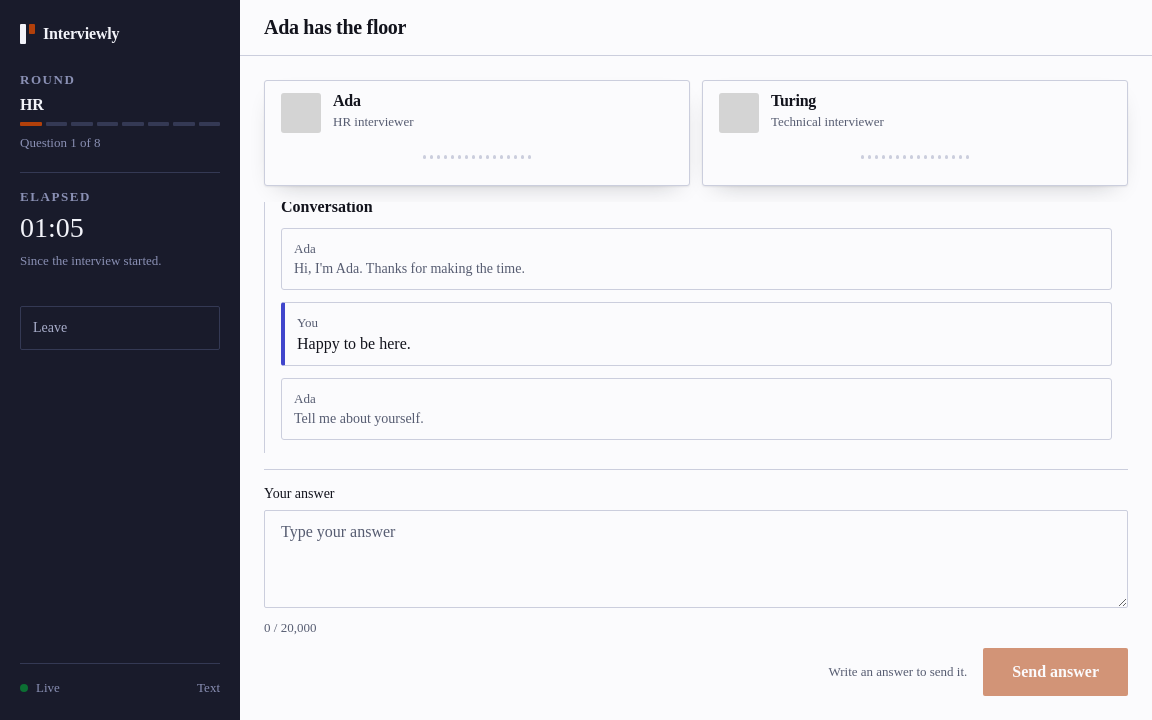
Test: leaving the room (issue 104) › asks before ending, and sends nothing until it is confirmed
(page scrolled)
Click the button "Leave".
click(120, 328)  # box [20,306,220,350]
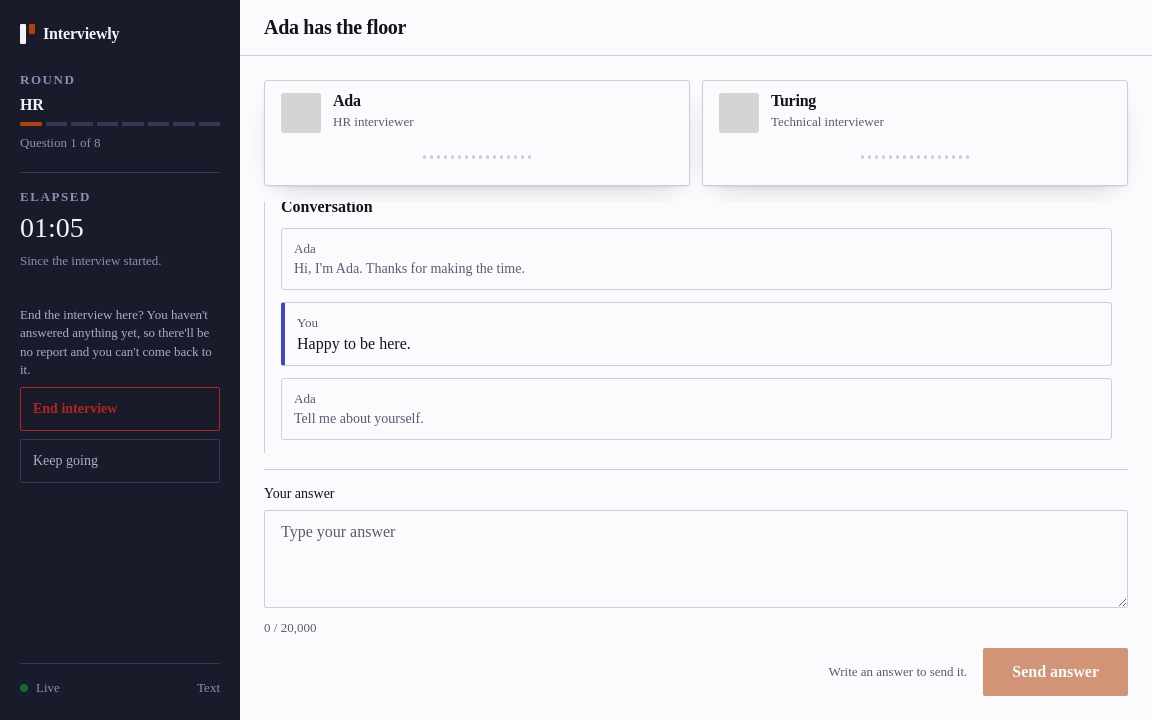
Check: the element with test id "room-leave-confirm" is shown, box [20,306,220,483]
